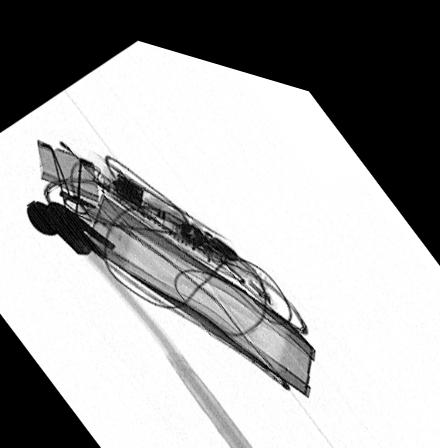Hammer: (24, 194, 266, 448)
